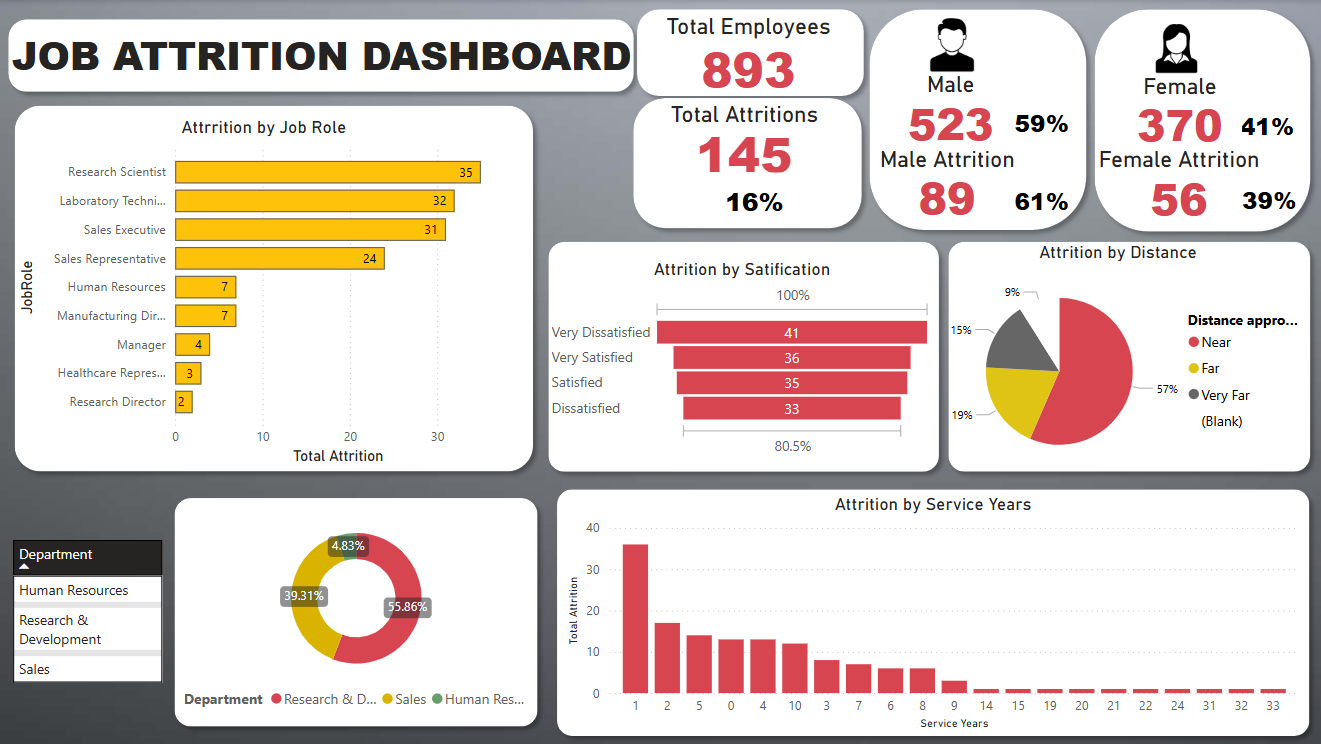

Layout of this report page (visuals, bound fields, positions):
{"tool":"powerbi","page":{"name":"Dashboard","canvas":[1280,720],"ordinal":2},"visuals":[{"type":"shape","box":[0,10.1,621.5,88],"z":0},{"type":"shape","box":[160,471.2,368.8,238.8],"z":1000},{"type":"shape","box":[831.2,0,227.5,231.2],"z":2000},{"type":"shape","box":[607.2,0,236.5,101.9],"z":3000},{"type":"textbox","box":[7.2,21.6,625.9,63.5],"z":4000},{"type":"card","title":"Total Employees","fields":{"Values":["Sum(Job Attrition.EmployeeCount)"]},"box":[637.4,13.7,172.8,79.5],"z":5000},{"type":"card","title":"Male","fields":{"Values":["Job Attrition.Male"]},"box":[853.8,68.8,128.8,75],"z":6000},{"type":"card","fields":{"Values":["Job Attrition.Male%"]},"box":[957.5,86.2,97.5,70],"z":7000},{"type":"shape","box":[1048.8,0,226.2,232.5],"z":8000},{"type":"card","fields":{"Values":["Job Attrition.Female%"]},"box":[1183.8,91.2,81.2,62.5],"z":9000},{"type":"card","title":"Female","fields":{"Values":["Job Attrition.Female"]},"box":[1080,71.2,120,73.8],"z":10000},{"type":"image","box":[883.8,0,63.8,81.2],"z":11000},{"type":"image","box":[1108.8,6.2,56.2,72.5],"z":12000},{"type":"shape","box":[603.5,86.2,238.8,143.8],"z":13000},{"type":"card","title":"Total Attritions","fields":{"Values":["Job Attrition.Total Attrition"]},"box":[640,97.5,160,73.8],"z":14000},{"type":"donutChart","fields":{"Category":["Job Attrition.Department"],"Y":["Job Attrition.Total Attrition"]},"box":[171.2,491.2,347.5,202.5],"z":15000},{"type":"shape","box":[530,463.8,743.8,256.2],"z":16000},{"type":"columnChart","title":"Attrition by Service Years","fields":{"Category":["Job Attrition.YearsAtCompany"],"Y":["Job Attrition.Total Attrition"]},"box":[543.8,476.2,715,232.5],"z":17000},{"type":"shape","box":[6.2,92.5,518.8,371.2],"z":18000},{"type":"clusteredBarChart","title":"Attrrition by Job Role","fields":{"Y":["Job Attrition.Total Attrition"],"Category":["Job Attrition.JobRole"]},"box":[15,112.5,482.5,341.2],"z":19000},{"type":"card","fields":{"Values":["Job Attrition.Attrition%"]},"box":[680,166.2,97.5,58.8],"z":20000},{"type":"card","title":"Male Attrition","fields":{"Values":["Job Attrition.Male attrrition"]},"box":[841.2,141.2,148.8,73.8],"z":21000},{"type":"card","title":"Female Attrition","fields":{"Values":["Job Attrition.Female attrition"]},"box":[1048.8,141.2,181.2,75],"z":22000},{"type":"card","fields":{"Values":["Job Attrition.Male attrition%"]},"box":[957.5,160,97.5,70],"z":23000},{"type":"card","fields":{"Values":["Job Attrition.Female attrition%"]},"box":[1177.5,158.8,97.5,70],"z":24000},{"type":"shape","box":[521.2,225,395,240],"z":25000},{"type":"funnel","title":"Attrition by Satification","fields":{"Category":["Job Attrition.Satification"],"Y":["Job Attrition.Total Attrition"]},"box":[528.8,250,377.5,196.2],"z":26000},{"type":"shape","box":[907.5,225,367.5,240],"z":27000},{"type":"pieChart","title":"Attrition by Distance","fields":{"Category":["Job Attrition.Distance approximate"],"Y":["Job Attrition.Total Attrition"]},"box":[895,232.5,370,232.5],"z":28000},{"type":"tableEx","fields":{"Values":["Job Attrition.Department"]},"box":[7.5,516.2,165,153.8],"z":29000}]}

Visuals, with their boxes in screenshot pixels (x1, y1, x2, y2), scaled from the page's 1280x720 canvas onto the 1321x744 screenshot:
shape: [0,10,641,101]
shape: [165,487,546,734]
shape: [858,0,1093,239]
shape: [627,0,871,105]
textbox: [7,22,653,88]
"Total Employees" card: [658,14,836,96]
"Male" card: [881,71,1014,149]
card - Job Attrition.Male%: [988,89,1089,161]
shape: [1082,0,1316,240]
card - Job Attrition.Female%: [1222,94,1306,159]
"Female" card: [1115,74,1238,150]
image: [912,0,978,84]
image: [1144,6,1202,81]
shape: [623,89,869,238]
"Total Attritions" card: [660,101,826,177]
donutChart - Job Attrition.Department x Job Attrition.Total Attrition: [177,508,535,717]
shape: [547,479,1315,743]
"Attrition by Service Years" columnChart: [561,492,1299,732]
shape: [6,96,542,479]
"Attrrition by Job Role" clusteredBarChart: [15,116,513,469]
card - Job Attrition.Attrition%: [702,172,802,233]
"Male Attrition" card: [868,146,1022,222]
"Female Attrition" card: [1082,146,1269,223]
card - Job Attrition.Male attrition%: [988,165,1089,238]
card - Job Attrition.Female attrition%: [1215,164,1316,236]
shape: [538,233,946,481]
"Attrition by Satification" funnel: [546,258,935,461]
shape: [937,233,1316,481]
"Attrition by Distance" pieChart: [924,240,1306,481]
tableEx - Job Attrition.Department: [8,533,178,692]
